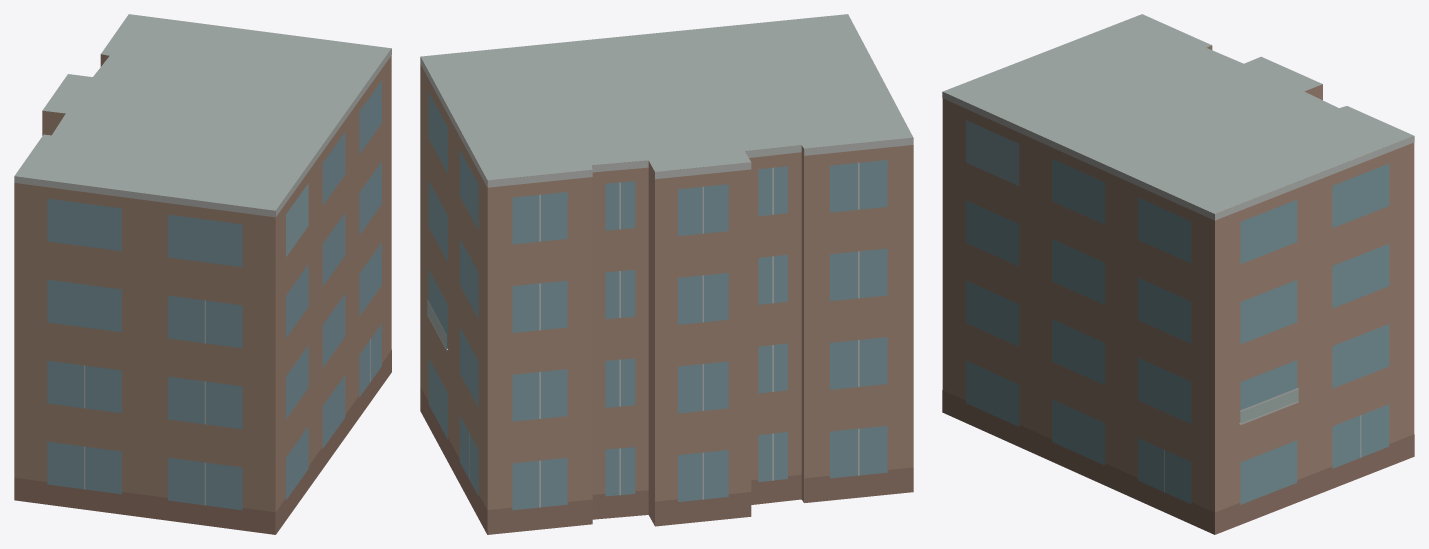
Rendered from survey-upis-32839026.glb.
3 renders of one model, left to right at view 1: azimuth 30°, elevation 25°; view 2: azimuth 150°, elevation 25°; view 3: azimuth 270°, elevation 25°, orthographic. The views are drawn at different scales.
Visible parts, largest first — view 1: survey-upis-32839026.tmp; view 2: survey-upis-32839026.tmp; view 3: survey-upis-32839026.tmp.
Part boxes in pixels (left/top/right/bottom): survey-upis-32839026.tmp: left=14, top=14, right=391, bottom=534; survey-upis-32839026.tmp: left=420, top=14, right=913, bottom=534; survey-upis-32839026.tmp: left=942, top=14, right=1414, bottom=534.
Bounding box in the file's own units: 15.92 × 11.9 × 15.87.
